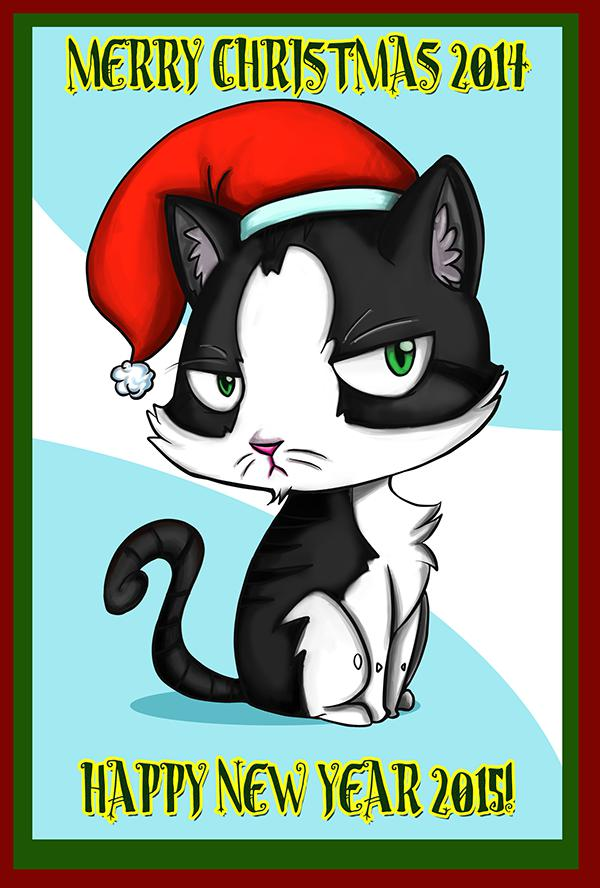cat: (85, 151, 518, 731)
